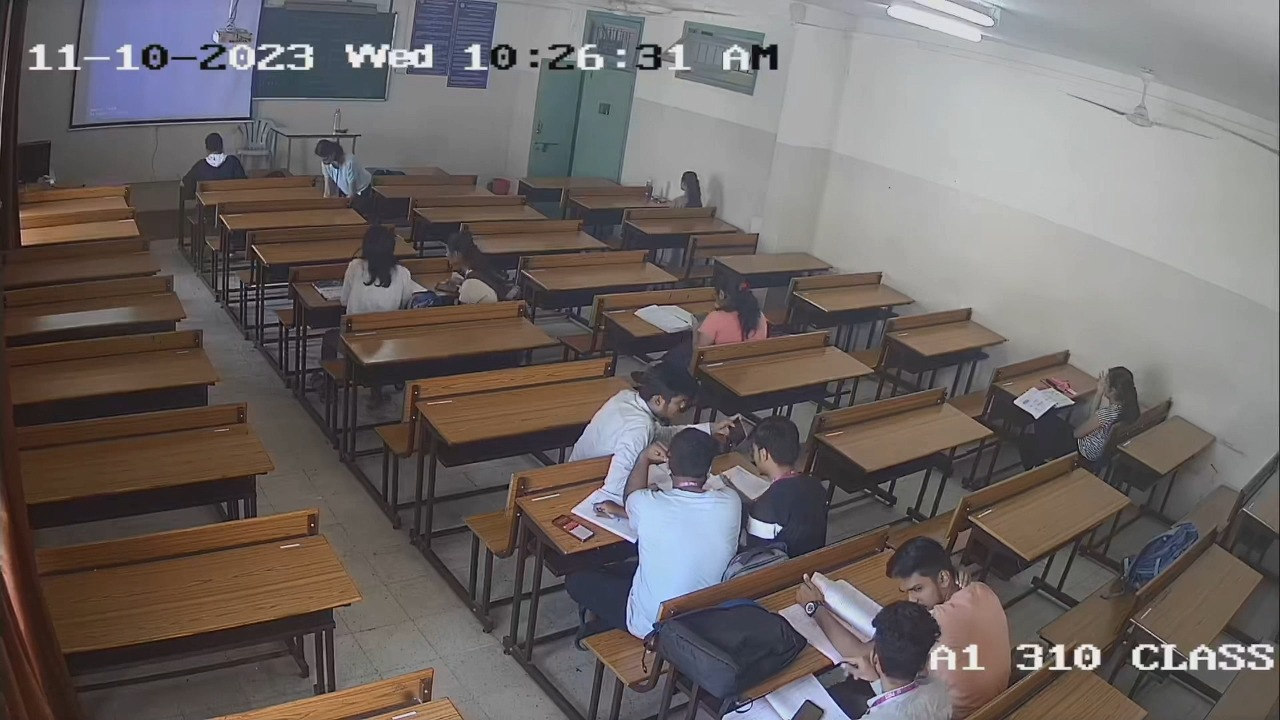cell-phones: (549, 512, 599, 545), (786, 696, 831, 720)
person: (609, 426, 745, 588), (849, 604, 960, 720)
